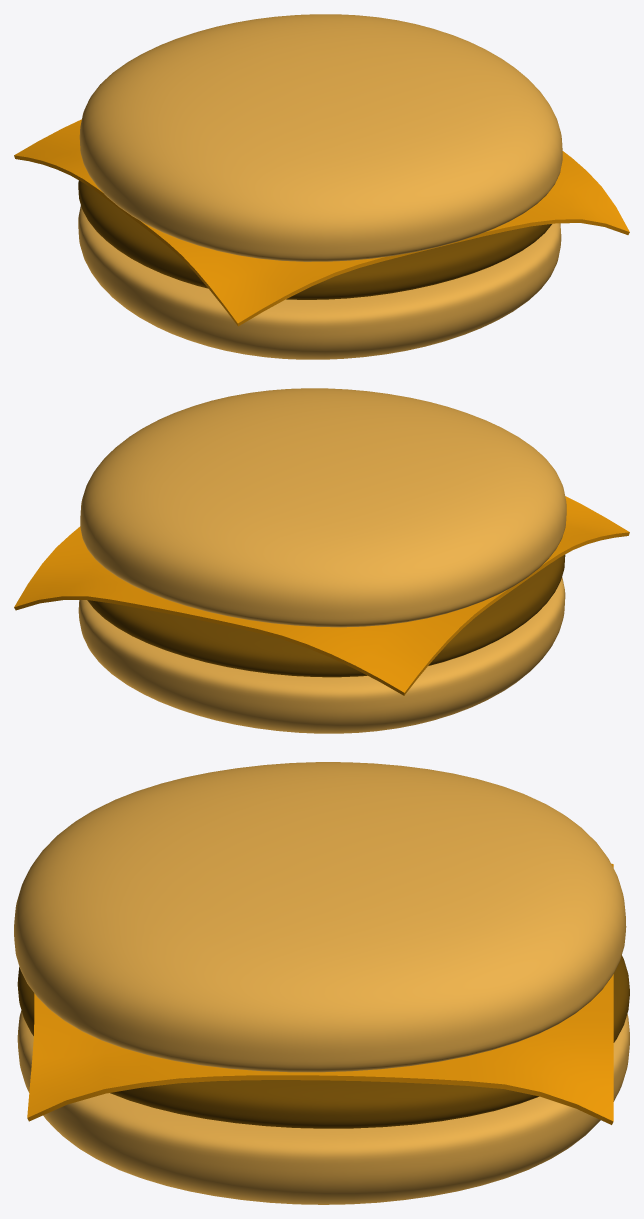
The model's file is burger.glb.
The picture shows the model from 3 angles, top to bottom: view 1: azimuth 30°, elevation 25°; view 2: azimuth 150°, elevation 25°; view 3: azimuth 270°, elevation 25°; orthographic projection. The views are drawn at different scales.
Parts seen in each view (by area): view 1: Cube.002, Cube, Plane, Cube.001; view 2: Cube.002, Cube, Plane, Cube.001; view 3: Cube.002, Cube, Plane, Cube.001.
Boxes of the visible parts, x1,y1,x2,y2 form: Cube.002: [79, 14, 562, 261]; Cube: [78, 205, 561, 359]; Plane: [14, 119, 629, 326]; Cube.001: [78, 180, 551, 299]; Cube.002: [80, 388, 566, 627]; Cube: [78, 577, 565, 733]; Plane: [14, 496, 629, 695]; Cube.001: [87, 555, 565, 677]; Cube.002: [14, 762, 626, 1072]; Cube: [17, 1010, 629, 1204]; Plane: [27, 863, 613, 1124]; Cube.001: [17, 955, 629, 1128].
Bounding box in the file's own units: 9.17 × 4.55 × 9.22.
